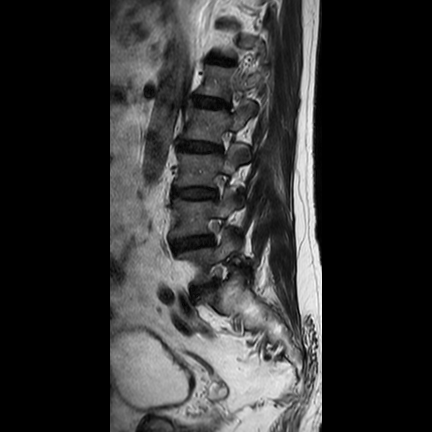LFS0: (198, 209, 229, 251), (203, 167, 233, 207), (211, 121, 237, 163), (218, 82, 246, 119)
LFS2: (196, 255, 241, 292)
